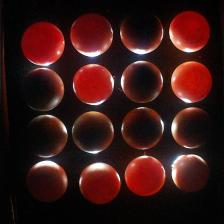fertile: (19, 68, 65, 113), (23, 114, 68, 159), (120, 9, 164, 54), (120, 61, 164, 104), (25, 160, 68, 204), (121, 107, 164, 151), (72, 111, 114, 154), (170, 107, 213, 149), (171, 154, 211, 197)
infertile: (69, 12, 114, 58), (20, 21, 65, 66), (78, 161, 122, 206), (168, 10, 211, 54), (72, 63, 115, 106), (170, 60, 212, 104), (124, 155, 166, 197)
